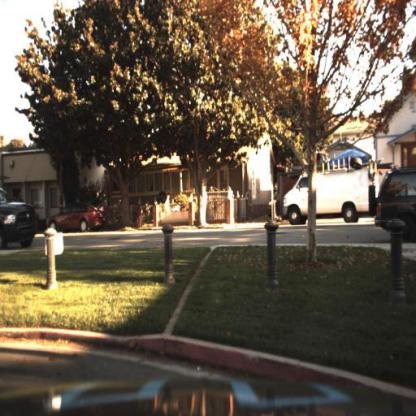car: (283, 157, 371, 231), (375, 167, 416, 245), (2, 181, 37, 251), (43, 201, 108, 235)
